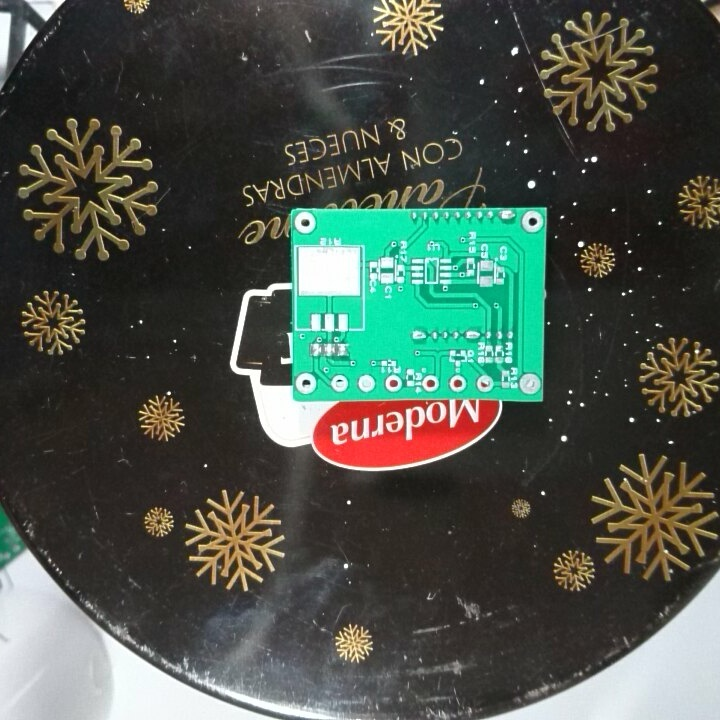F: (292, 208, 318, 237), (519, 209, 543, 235), (294, 371, 319, 395), (328, 372, 351, 395), (354, 372, 377, 395), (518, 372, 539, 396), (475, 374, 496, 395), (421, 373, 441, 395), (448, 372, 467, 395), (382, 373, 402, 394)
P: (408, 326, 428, 346), (462, 325, 483, 343), (497, 206, 517, 223)
